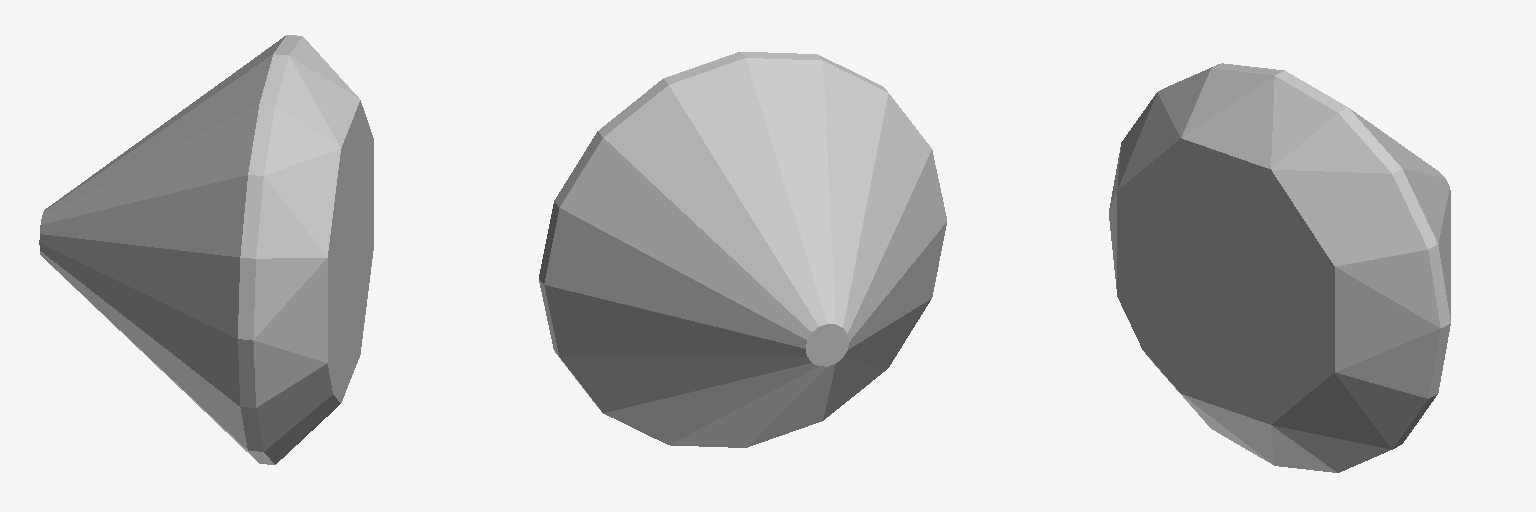
Rendered from gem3.obj.
3 views of the same model, side by side, from view 1: azimuth 30°, elevation 25°; view 2: azimuth 150°, elevation 25°; view 3: azimuth 270°, elevation 25° (orthographic).
Visible parts, largest first — view 1: diamond; view 2: diamond; view 3: diamond.
Part boxes in pixels (x1,y1,x2,y2): diamond: (39, 35, 373, 464); diamond: (539, 52, 946, 447); diamond: (1109, 63, 1450, 472).
Bounding box in the file's own units: 0.1888 × 0.2362 × 0.188.